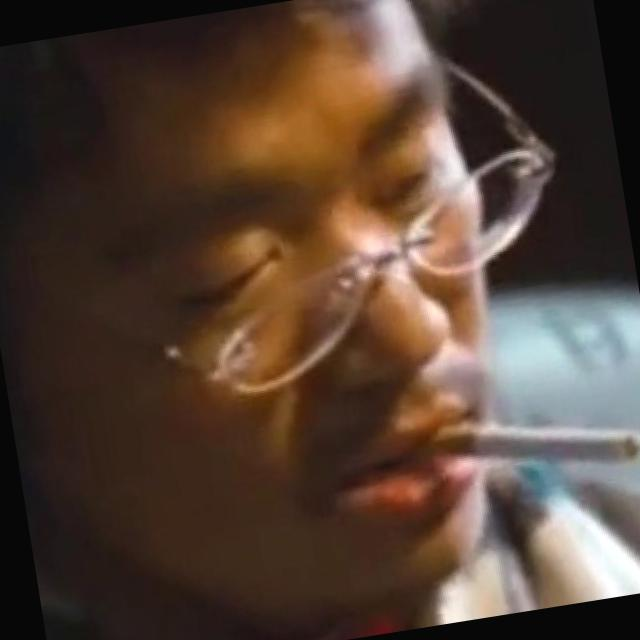smoke: (416, 380, 640, 501)
